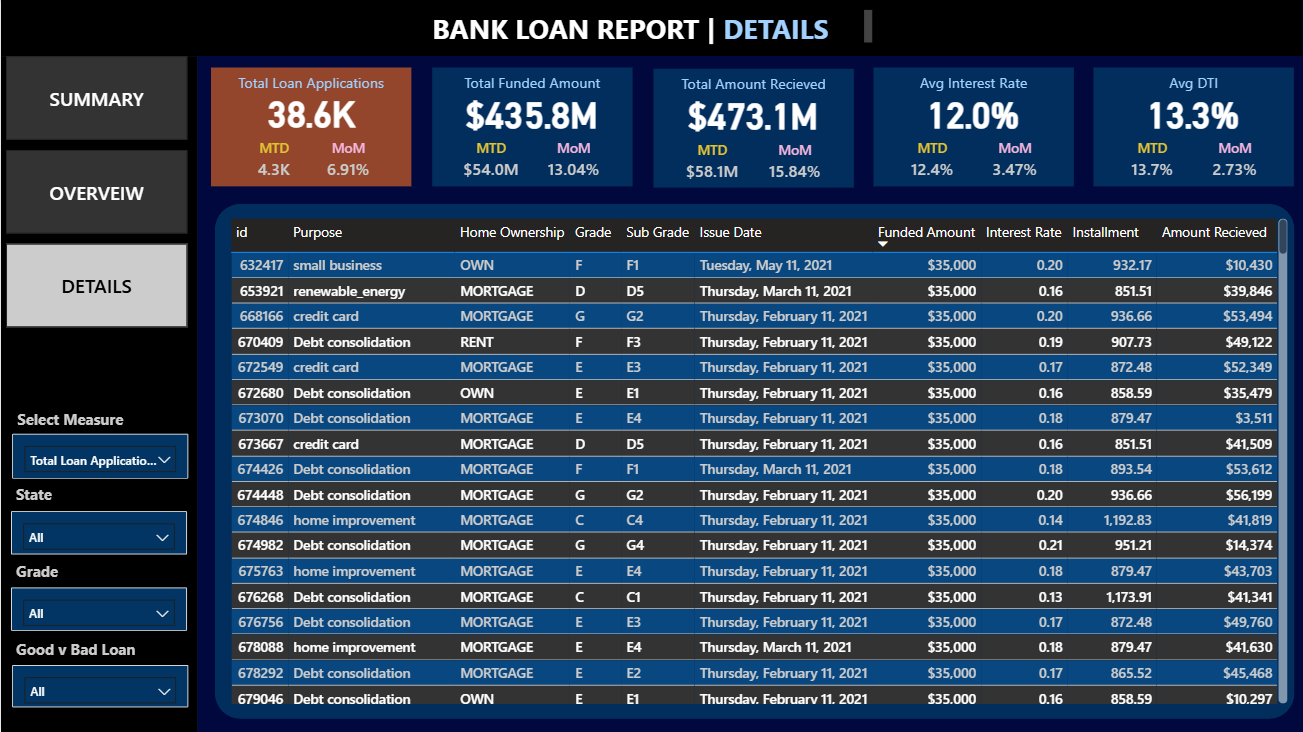

The dashboard page shown, as its layout file describes it:
{"tool":"powerbi","page":{"name":"DETAILS","canvas":[1280,720],"ordinal":2},"visuals":[{"type":"shape","box":[856.5,65.7,196.7,116.7],"z":0,"group":"g4"},{"type":"shape","box":[1072.9,65.7,196.7,116.7],"z":0,"group":"g5"},{"type":"shape","box":[205.6,66.7,196.7,116.7],"z":0,"group":"g1"},{"type":"shape","box":[422.9,66.7,196.7,116.7],"z":0,"group":"g2"},{"type":"shape","box":[640.2,67.1,196.7,116.7],"z":0,"group":"g3"},{"type":"shape","box":[210,200,1060,505.7],"z":0},{"type":"shape","box":[0,0,1277.5,55],"z":1000},{"type":"card","fields":{"Values":["bank_loan_data.Avg Interest Rate"]},"box":[873,82.7,163.3,53.3],"z":1000,"group":"g4"},{"type":"card","fields":{"Values":["bank_loan_data.Avg DTI"]},"box":[1089.4,82.7,163.3,53.3],"z":1000,"group":"g5"},{"type":"card","fields":{"Values":["bank_loan_data.Total Loan Applications"]},"box":[238.9,82.9,131.2,53.8],"z":1000,"group":"g1"},{"type":"card","fields":{"Values":["bank_loan_data.Total Funded Amount"]},"box":[439.4,83.7,163.3,53.3],"z":1000,"group":"g2"},{"type":"card","fields":{"Values":["bank_loan_data.Total Amount Recieved"]},"box":[656.7,84.1,163.3,53.3],"z":1000,"group":"g3"},{"type":"shape","box":[0,55,193,665],"z":2000},{"type":"textbox","box":[856.5,65.7,196.7,31.7],"z":2000,"group":"g4"},{"type":"textbox","box":[1072.9,65.7,196.7,31.7],"z":2000,"group":"g5"},{"type":"textbox","box":[205.6,66.7,196.7,31.7],"z":2000,"group":"g1"},{"type":"textbox","box":[422.9,66.7,196.7,31.7],"z":2000,"group":"g2"},{"type":"textbox","box":[640.2,67.1,196.7,31.7],"z":2000,"group":"g3"},{"type":"textbox","box":[418.3,5,441.7,43.3],"z":3000},{"type":"card","title":"MTD","fields":{"Values":["bank_loan_data.MTD Avg Interest Rate"]},"box":[880.8,136.1,66.7,46.7],"z":3000,"group":"g4"},{"type":"card","title":"MTD","fields":{"Values":["bank_loan_data.MTD Avg DTI"]},"box":[1097.2,136.1,66.7,46.7],"z":3000,"group":"g5"},{"type":"card","title":"MTD","fields":{"Values":["bank_loan_data.MTD Loan Applications"]},"box":[238.9,136.7,57.5,46.2],"z":3000,"group":"g1"},{"type":"card","title":"MTD","fields":{"Values":["bank_loan_data.MTD Funded Amount"]},"box":[447.2,137.1,66.7,46.7],"z":3000,"group":"g2"},{"type":"card","title":"MTD","fields":{"Values":["bank_loan_data.MTD Total Amount Recieved"]},"box":[664.5,137.5,66.7,46.7],"z":3000,"group":"g3"},{"type":"group","id":"g1","title":"Group 1","box":[205.6,66.7,196.7,116.7],"z":4000},{"type":"card","title":"MoM","fields":{"Values":["bank_loan_data.MoM Avg Int Rate"]},"box":[961.9,136.1,66.7,46.7],"z":4000,"group":"g4"},{"type":"card","title":"MoM","fields":{"Values":["bank_loan_data.MoM Avg DTI"]},"box":[1178.3,136.1,66.7,46.7],"z":4000,"group":"g5"},{"type":"card","title":"MoM","fields":{"Values":["bank_loan_data.MoM Loan Applications"]},"box":[311.4,136.7,58.8,46.2],"z":4000,"group":"g1"},{"type":"card","title":"MoM","fields":{"Values":["bank_loan_data.MoM Funded Amount"]},"box":[528.3,137.1,66.7,46.7],"z":4000,"group":"g2"},{"type":"card","title":"MoM","fields":{"Values":["bank_loan_data.MoM Total Amount Recieved"]},"box":[745.6,137.5,66.7,46.7],"z":4000,"group":"g3"},{"type":"group","id":"g2","title":"Group 1","box":[422.9,66.7,196.7,117],"z":5000},{"type":"group","id":"g3","title":"Group 1","box":[640.2,67.1,195.7,117.1],"z":6000},{"type":"group","id":"g4","title":"Group 1","box":[856.5,65.7,195.7,117.1],"z":7000},{"type":"group","id":"g5","title":"Group 1","box":[1072.9,65.7,195.7,117.1],"z":8000},{"type":"slicer","fields":{"Values":["bank_loan_data.address_state"]},"box":[10,501.9,172.5,42.5],"z":9000},{"type":"textbox","box":[10,469.4,96.2,40],"z":10000},{"type":"slicer","fields":{"Values":["bank_loan_data.grade"]},"box":[10,576.1,172.5,42.5],"z":11000},{"type":"textbox","box":[10,546.1,96.2,40],"z":12000},{"type":"slicer","fields":{"Values":["bank_loan_data.Good v Bad Loan"]},"box":[11.4,652.9,172.9,41.4],"z":13000},{"type":"textbox","box":[10,621.7,148.3,40],"z":14000},{"type":"slicer","fields":{"Values":["Select Measure.Select Measure"]},"box":[11.4,425.7,172.9,44.3],"z":16000},{"type":"textbox","box":[11.4,395.7,147.1,40],"z":17000},{"type":"tableEx","fields":{"Values":["bank_loan_data.id","bank_loan_data.purpose","bank_loan_data.home_ownership","bank_loan_data.grade","bank_loan_data.sub_grade","bank_loan_data.issue_date","bank_loan_data.Total Funded Amount","bank_loan_data.int_rate","bank_loan_data.installment","bank_loan_data.Total Amount Recieved"]},"box":[220,210,1048.6,485.7],"z":17001},{"type":"pageNavigator","box":[5,55,178.3,268.3],"z":17002}]}

Visuals, with their boxes in screenshot pixels (x1, y1, x2, y2), scaled from the page's 1280x720 canvas onto the 1303x732 screenshot:
shape: locate(872, 67, 1072, 185)
shape: locate(1092, 67, 1292, 185)
shape: locate(209, 68, 410, 186)
shape: locate(430, 68, 631, 186)
shape: locate(652, 68, 852, 187)
shape: locate(214, 203, 1293, 717)
shape: locate(0, 0, 1300, 56)
card - bank_loan_data.Avg Interest Rate: locate(889, 84, 1055, 138)
card - bank_loan_data.Avg DTI: locate(1109, 84, 1275, 138)
card - bank_loan_data.Total Loan Applications: locate(243, 84, 377, 139)
card - bank_loan_data.Total Funded Amount: locate(447, 85, 614, 139)
card - bank_loan_data.Total Amount Recieved: locate(669, 86, 835, 140)
shape: locate(0, 56, 196, 731)
textbox: locate(872, 67, 1072, 99)
textbox: locate(1092, 67, 1292, 99)
textbox: locate(209, 68, 410, 100)
textbox: locate(430, 68, 631, 100)
textbox: locate(652, 68, 852, 100)
textbox: locate(426, 5, 875, 49)
"MTD" card: locate(897, 138, 965, 186)
"MTD" card: locate(1117, 138, 1185, 186)
"MTD" card: locate(243, 139, 302, 186)
"MTD" card: locate(455, 139, 523, 187)
"MTD" card: locate(676, 140, 744, 187)
"Group 1" group: locate(209, 68, 410, 186)
"MoM" card: locate(979, 138, 1047, 186)
"MoM" card: locate(1199, 138, 1267, 186)
"MoM" card: locate(317, 139, 377, 186)
"MoM" card: locate(538, 139, 606, 187)
"MoM" card: locate(759, 140, 827, 187)
"Group 1" group: locate(430, 68, 631, 187)
"Group 1" group: locate(652, 68, 851, 187)
"Group 1" group: locate(872, 67, 1071, 186)
"Group 1" group: locate(1092, 67, 1291, 186)
slicer - bank_loan_data.address_state: locate(10, 510, 186, 553)
textbox: locate(10, 477, 108, 518)
slicer - bank_loan_data.grade: locate(10, 586, 186, 629)
textbox: locate(10, 555, 108, 596)
slicer - bank_loan_data.Good v Bad Loan: locate(12, 664, 188, 706)
textbox: locate(10, 632, 161, 673)
slicer - Select Measure.Select Measure: locate(12, 433, 188, 478)
textbox: locate(12, 402, 161, 443)
tableEx - bank_loan_data.id x bank_loan_data.purpose: locate(224, 214, 1291, 707)
pageNavigator: locate(5, 56, 187, 329)
